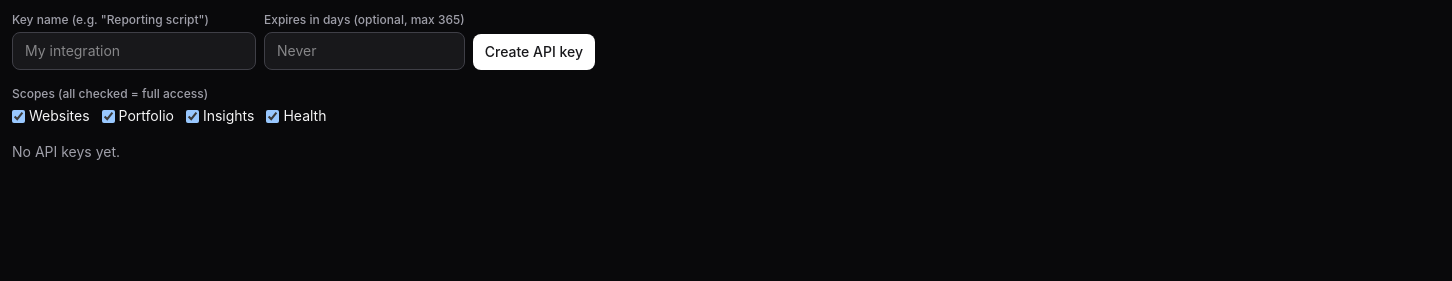
Test case: ApiKeyManager › creates a scoped key with an expiry when scopes are unchecked and days are set
Type "Scoped" into the field labelled "Key name (e.g. \"Reporting script\")". click: (134, 51)
box: [12, 32, 256, 70]
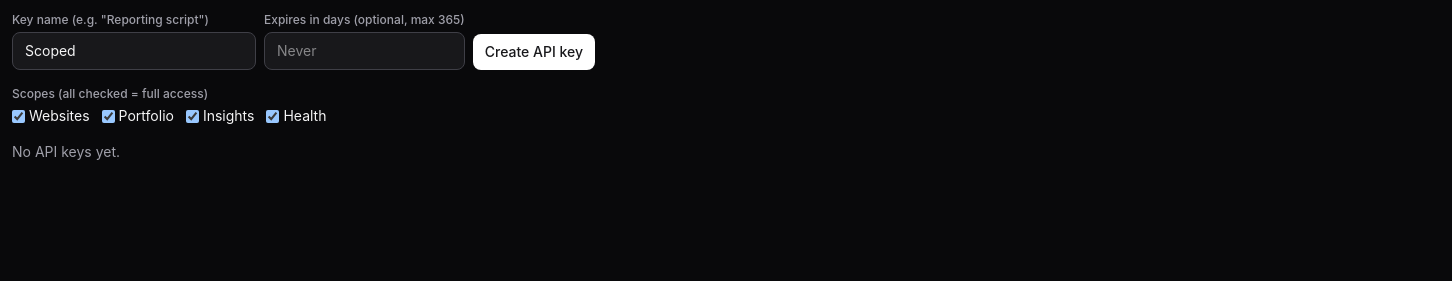
Type "90" into the number field labelled "Expires in days (optional, max 365)". click: (364, 51)
box: [264, 32, 465, 70]
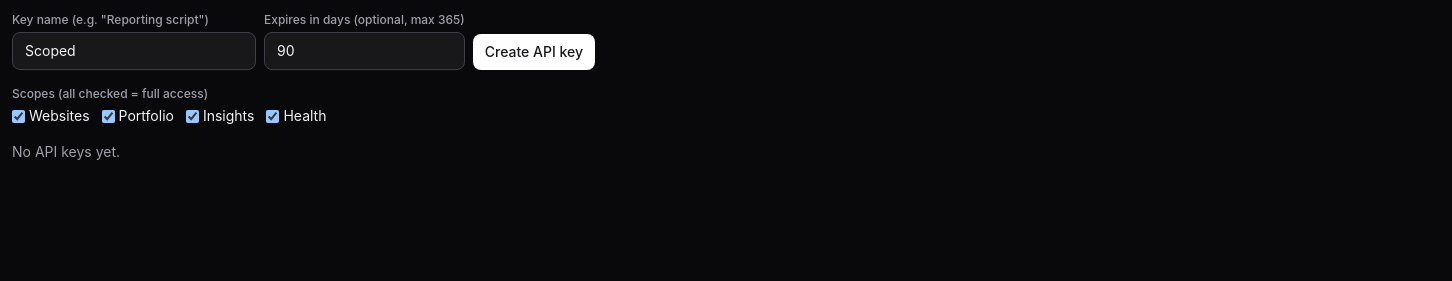
Click the checkbox labelled "Portfolio". click: (108, 116)
box: [102, 110, 115, 122]
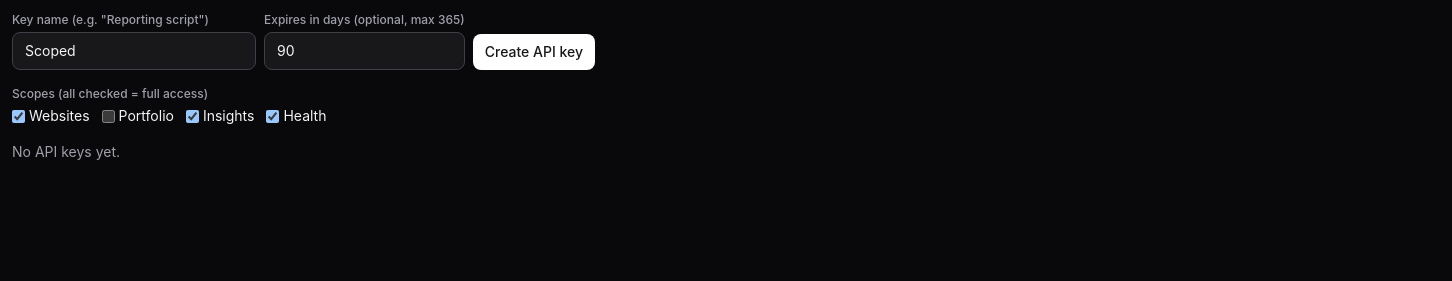
Click the checkbox labelled "Insights". click: (192, 116)
box: [186, 110, 199, 122]
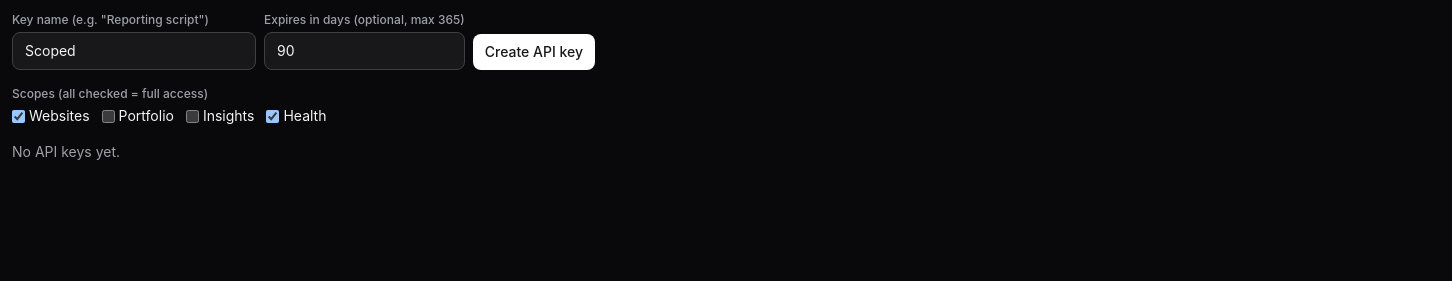
Click the checkbox labelled "Health". click: (273, 116)
box: [266, 110, 280, 122]
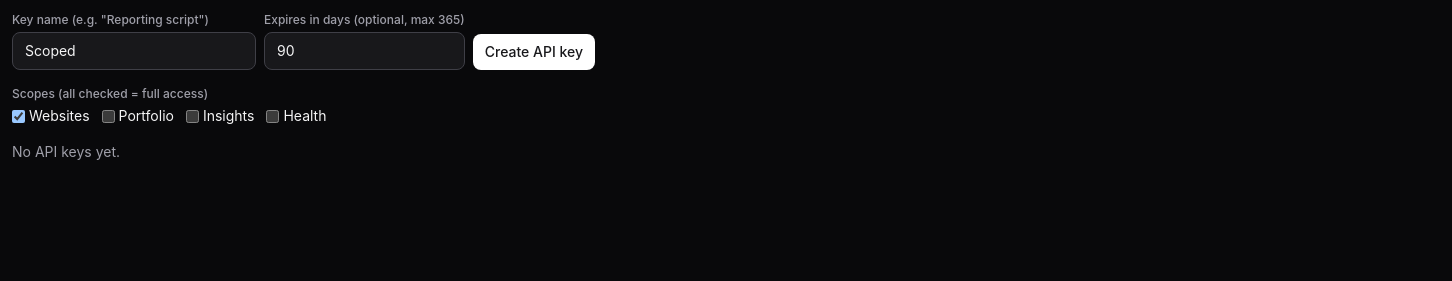
Click the button "Create API key". click: (534, 52)
box: [473, 34, 595, 70]
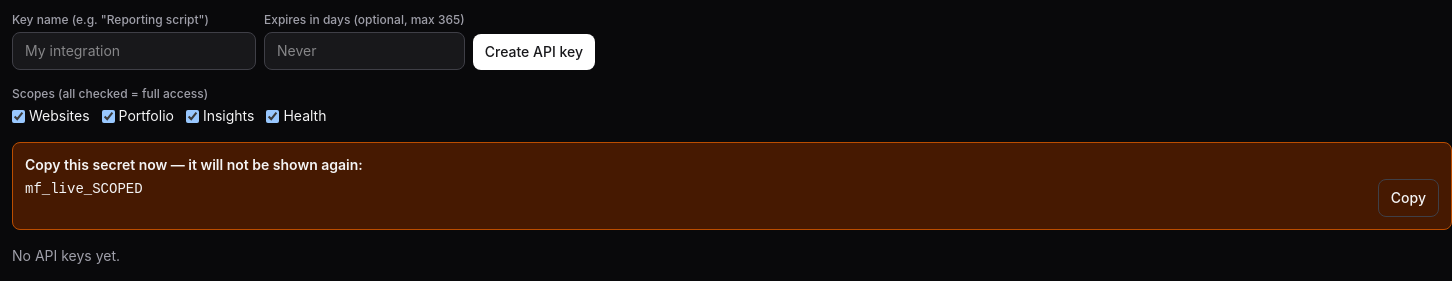
Result: the text "mf_live_SCOPED" is shown at [25, 181, 143, 197]
